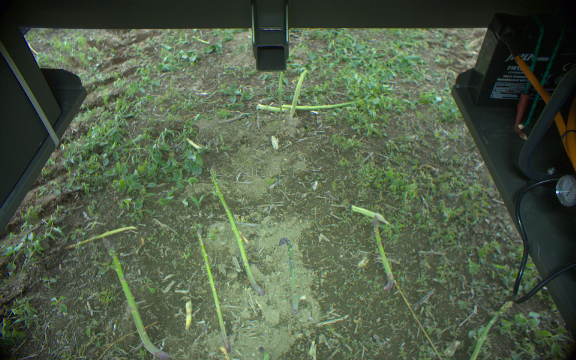aspa: (102, 237, 169, 360), (208, 168, 264, 295), (192, 224, 232, 354), (465, 297, 514, 360), (274, 235, 301, 314), (278, 41, 306, 113), (370, 214, 393, 291), (287, 67, 309, 116)
